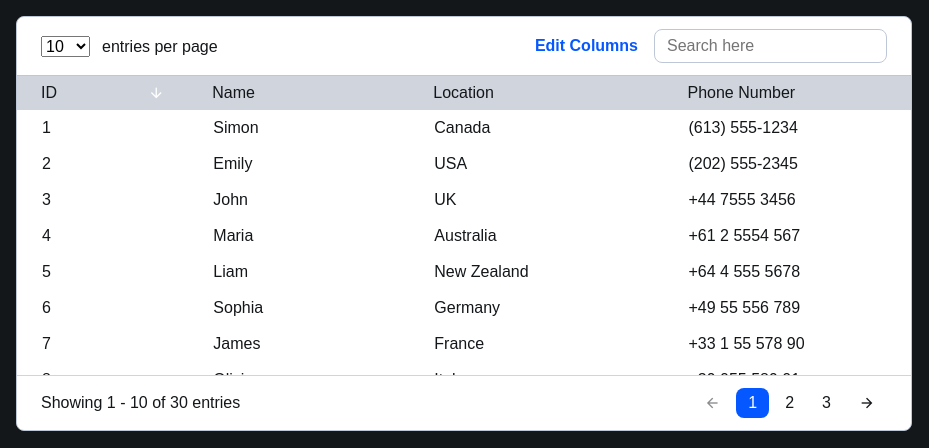
it: Page size selector - should update rows per page to 30
Select "30" in the dropdown at (66, 46), box top-left (41, 36), bottom-right (90, 56)
(page scrolled)
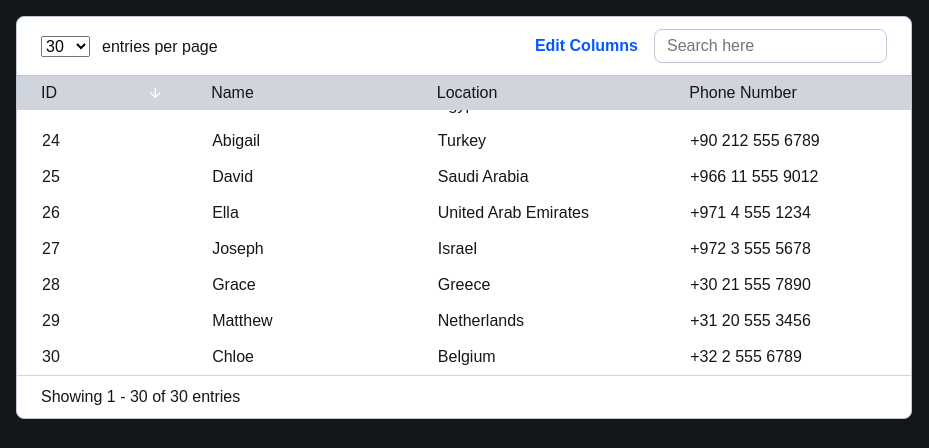
Expected: the text "Chloe" is shown, top-left (212, 348), bottom-right (254, 365)
